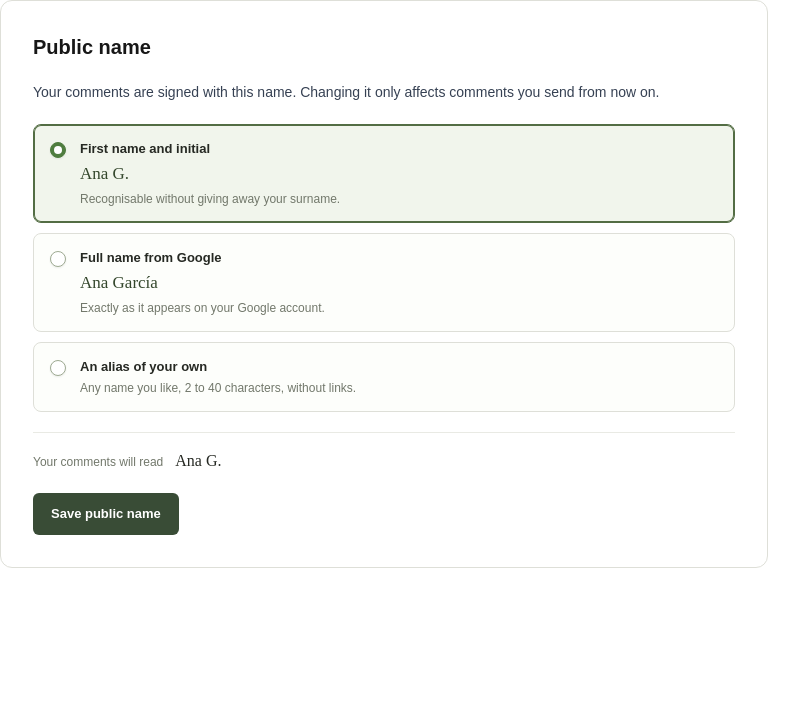
Test: PublicNameSettings › saves an alias trimmed and hands back the updated account
Click the radio button labelled "alias of your own" at coordinates (58, 368), box x1=50 y1=360 x2=66 y2=376
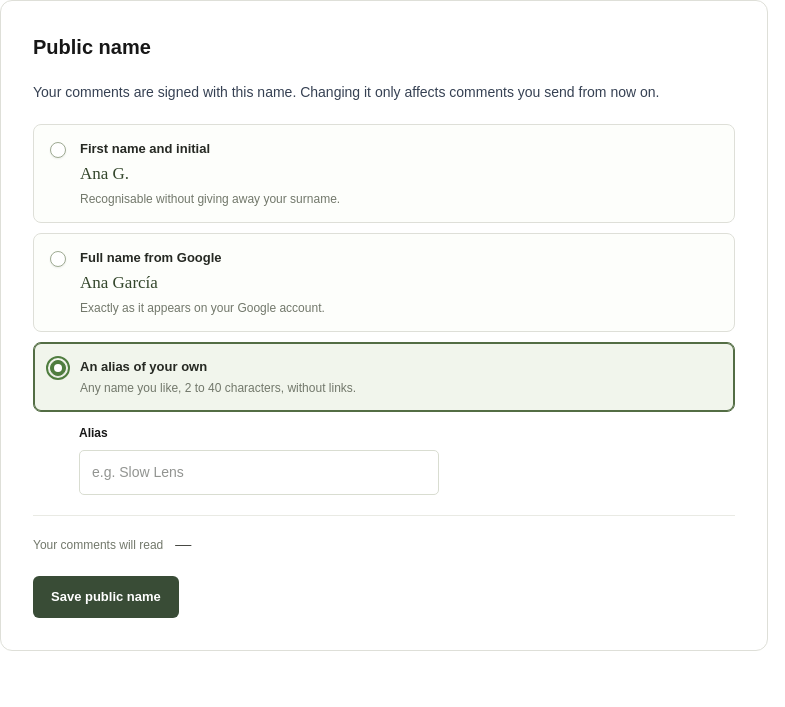
Type "  Slow Lens " into the field labelled "Alias" at coordinates (259, 473), box x1=79 y1=450 x2=439 y2=495
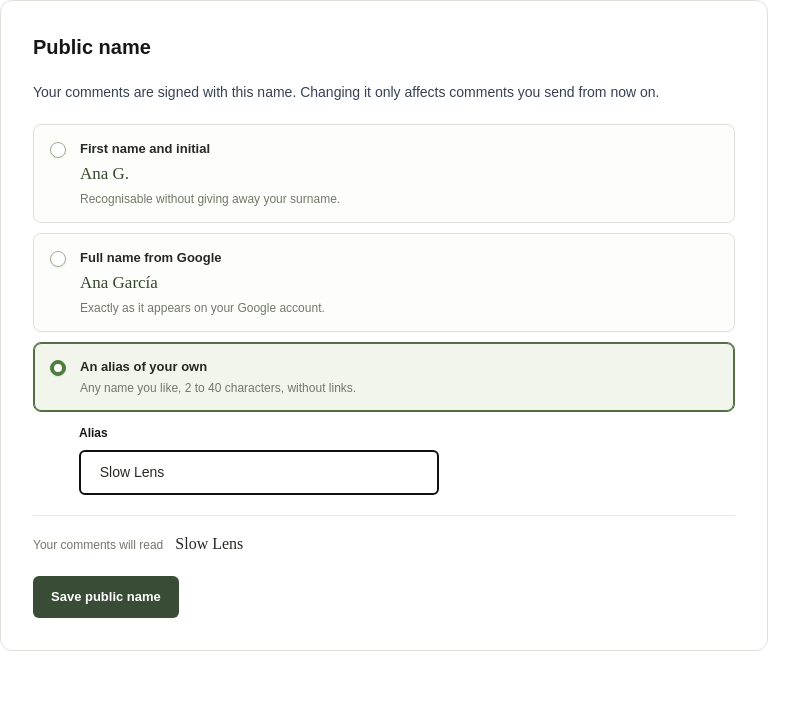
Click the button "Save public name" at coordinates (106, 597), box x1=33 y1=576 x2=179 y2=618
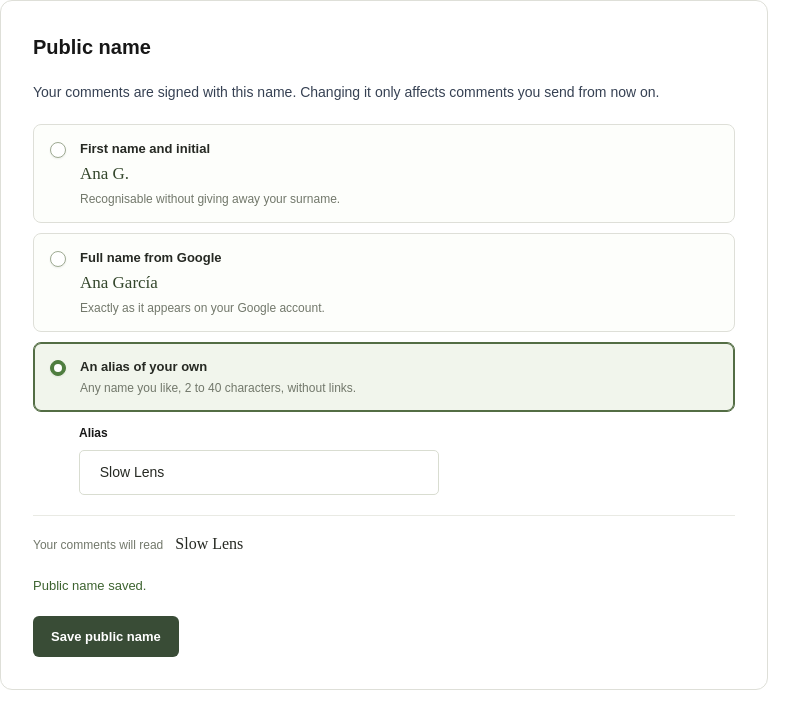
Check: the message reads "Public name saved.", box x1=33 y1=578 x2=146 y2=593
